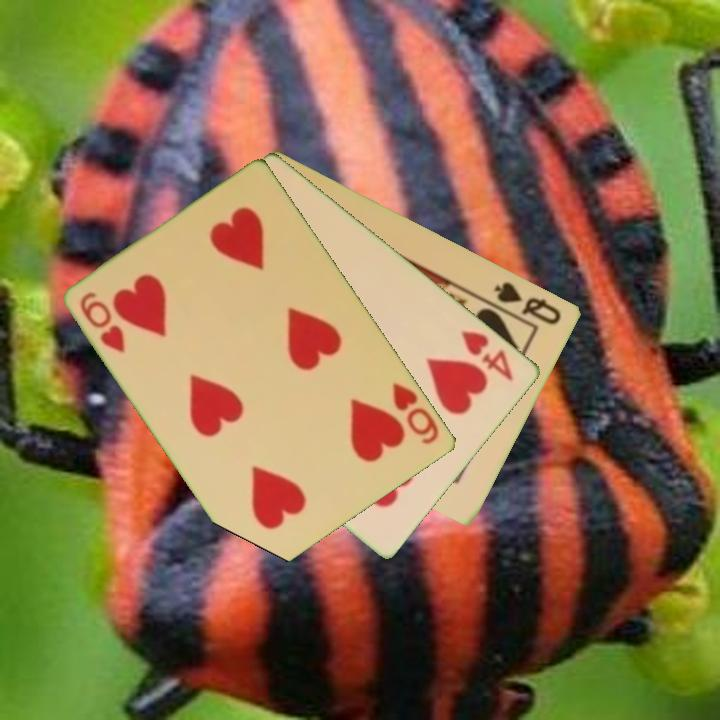4h: (458, 326, 517, 384)
6h: (389, 379, 443, 448), (77, 288, 129, 356)
Qs: (491, 277, 565, 328)
